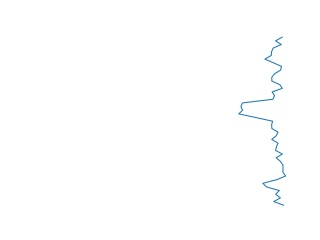interdistributaryEstuary: (234, 37, 291, 209)
